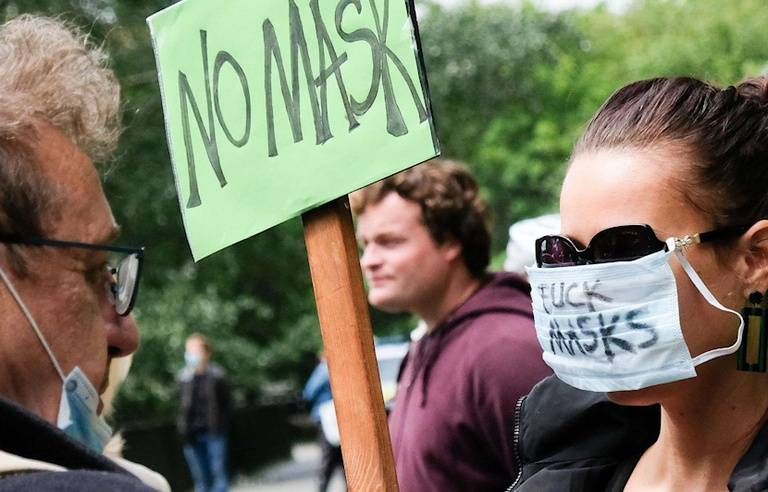with_incorrect_mask: (540, 142, 752, 417), (6, 102, 142, 456)
without_mask: (359, 202, 427, 312)
